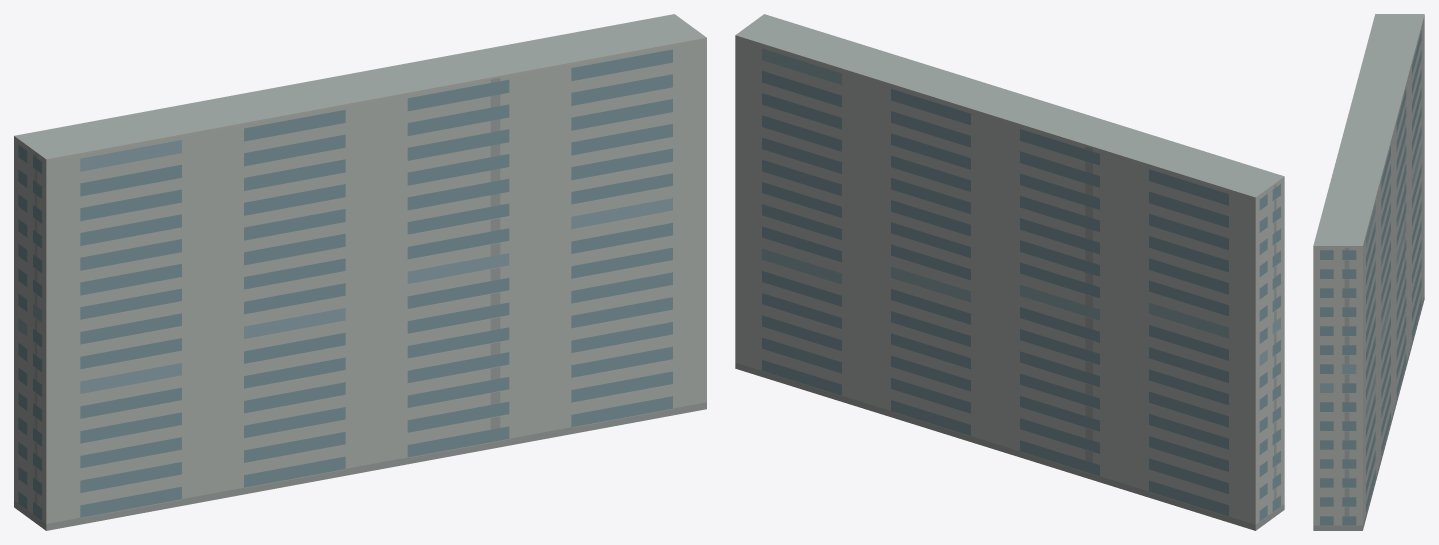
Rendered from residential-24bfc0cb-5bd2-412f-b28d-6d4f42c2138e.glb.
3 renders of one model, left to right at view 1: azimuth 30°, elevation 25°; view 2: azimuth 150°, elevation 25°; view 3: azimuth 270°, elevation 25°, orthographic. The views are drawn at different scales.
Parts seen in each view (by area): view 1: residential-24bfc0cb-5bd2-412f-b28d-6d4f42c2138e.tmp; view 2: residential-24bfc0cb-5bd2-412f-b28d-6d4f42c2138e.tmp; view 3: residential-24bfc0cb-5bd2-412f-b28d-6d4f42c2138e.tmp.
Boxes of the visible parts, x1,y1,x2,y2 form: residential-24bfc0cb-5bd2-412f-b28d-6d4f42c2138e.tmp: (14, 14, 706, 530); residential-24bfc0cb-5bd2-412f-b28d-6d4f42c2138e.tmp: (735, 14, 1284, 530); residential-24bfc0cb-5bd2-412f-b28d-6d4f42c2138e.tmp: (1313, 14, 1424, 530).
Bounding box in the file's own units: 79.95 × 45.75 × 16.23.
